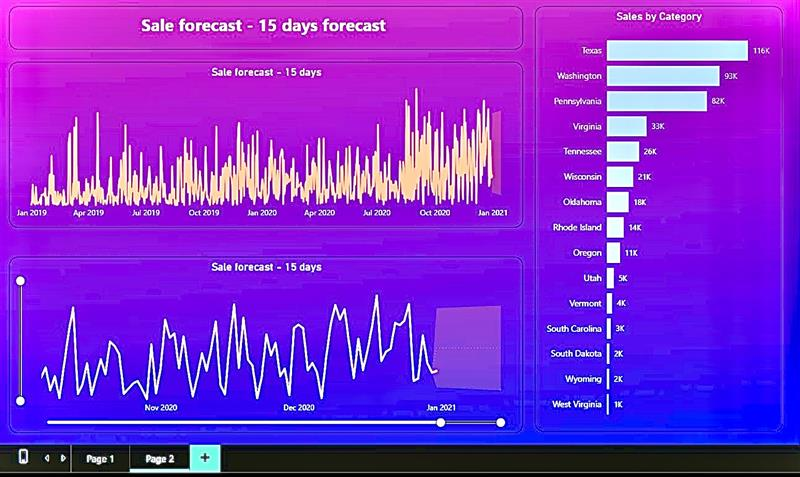

This screenshot's page, from the dashboard's own definition file:
{"tool":"powerbi","page":{"name":"Page 2","canvas":[1280,720],"ordinal":1},"visuals":[{"type":"lineChart","title":"Sale forecast - 15 days","fields":{"Y":["Sum(SuperStore_Sales_Dataset.Sales)"],"Category":["SuperStore_Sales_Dataset.Order Date"]},"box":[23.3,111.1,815.1,263.5],"z":0},{"type":"lineChart","title":"Sale forecast - 15 days","fields":{"Y":["Sum(SuperStore_Sales_Dataset.Sales)"],"Category":["SuperStore_Sales_Dataset.Order Date"]},"box":[23.3,421.3,815.1,279.9],"z":1000},{"type":"clusteredBarChart","title":"Sales by Category","fields":{"Category":["SuperStore_Sales_Dataset.State"],"Y":["Sum(SuperStore_Sales_Dataset.Sales)"]},"box":[857.6,23.3,392.5,675.1],"z":2000},{"type":"textbox","box":[23.3,23.3,815.1,68.6],"z":3000}]}

Visuals, with their boxes on the page's 1280x720 design canvas (x1, y1, x2, y2). These are canvas units, not pixel positions in the 800x477 screenshot, which may show the page scaled, cropped or inside an application window:
"Sale forecast - 15 days" lineChart: 23:111:838:375
"Sale forecast - 15 days" lineChart: 23:421:838:701
"Sales by Category" clusteredBarChart: 858:23:1250:698
textbox: 23:23:838:92
